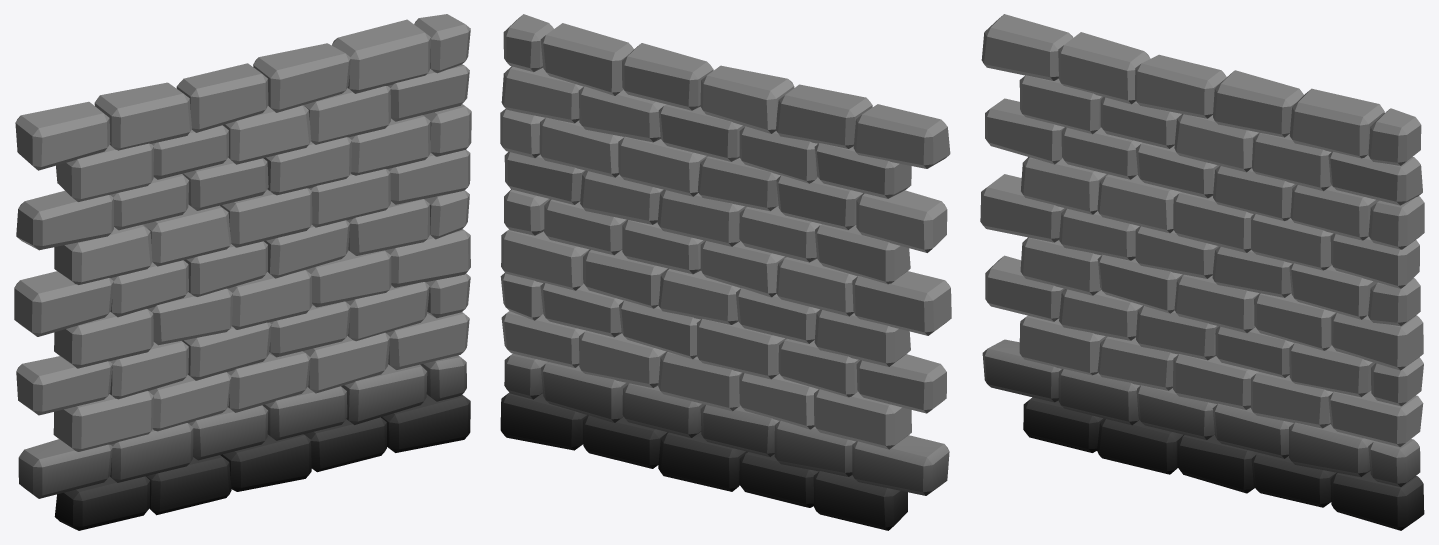
Rendered from BrickWall2x2_01_End_L.fbx.
3 views of the same model, side by side, from view 1: azimuth 30°, elevation 25°; view 2: azimuth 150°, elevation 25°; view 3: azimuth 330°, elevation 25° (orthographic). The views are drawn at different scales.
Visible parts, largest first — view 1: BrickWall2x2_01_End_L; view 2: BrickWall2x2_01_End_L; view 3: BrickWall2x2_01_End_L.
Part boxes in pixels (x1=…): BrickWall2x2_01_End_L: x1=14, y1=14, x2=471, y2=530; BrickWall2x2_01_End_L: x1=500, y1=14, x2=951, y2=530; BrickWall2x2_01_End_L: x1=980, y1=14, x2=1424, y2=530.
Bounding box in the file's own units: 222 × 202 × 22.12.
